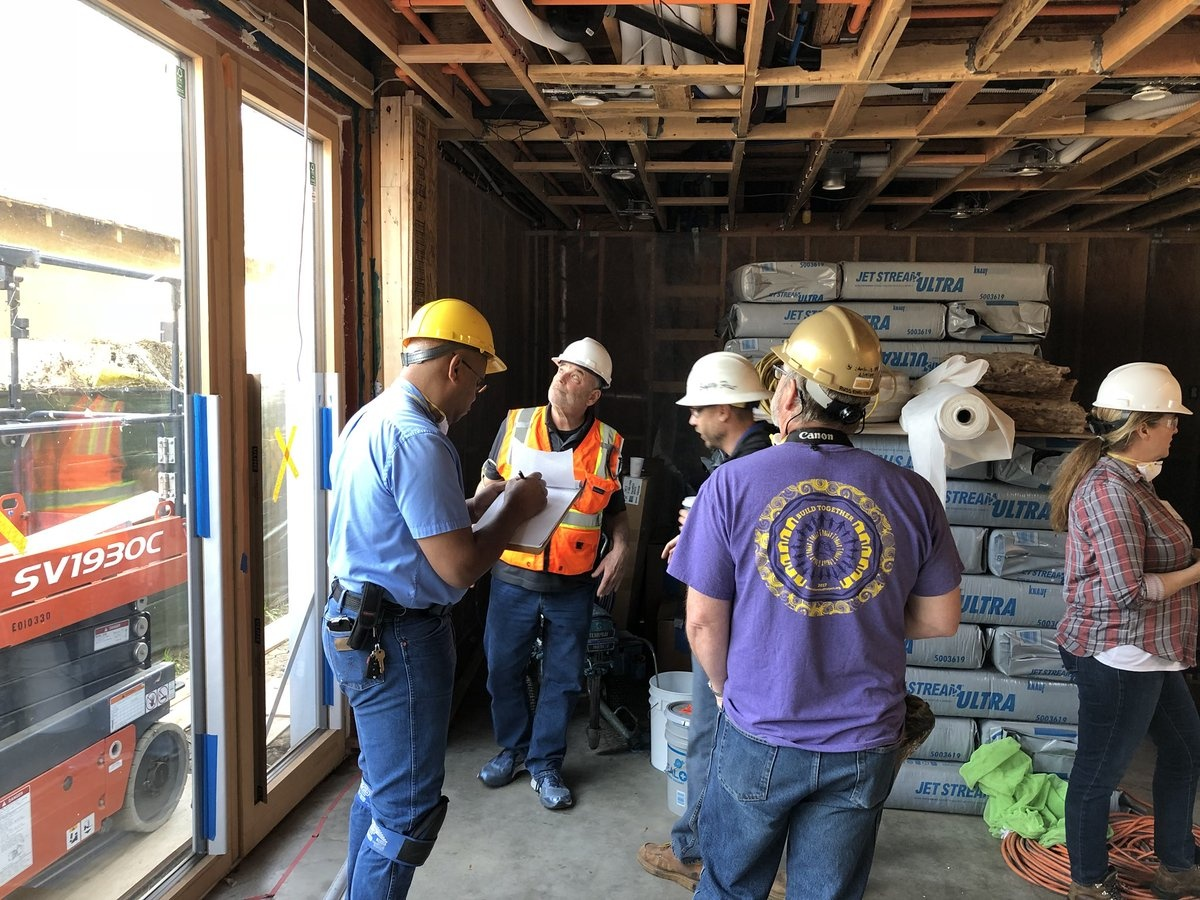white: (1092, 358, 1184, 468), (676, 349, 761, 448), (541, 337, 615, 416)
yellow: (770, 309, 886, 441), (396, 296, 496, 421)
